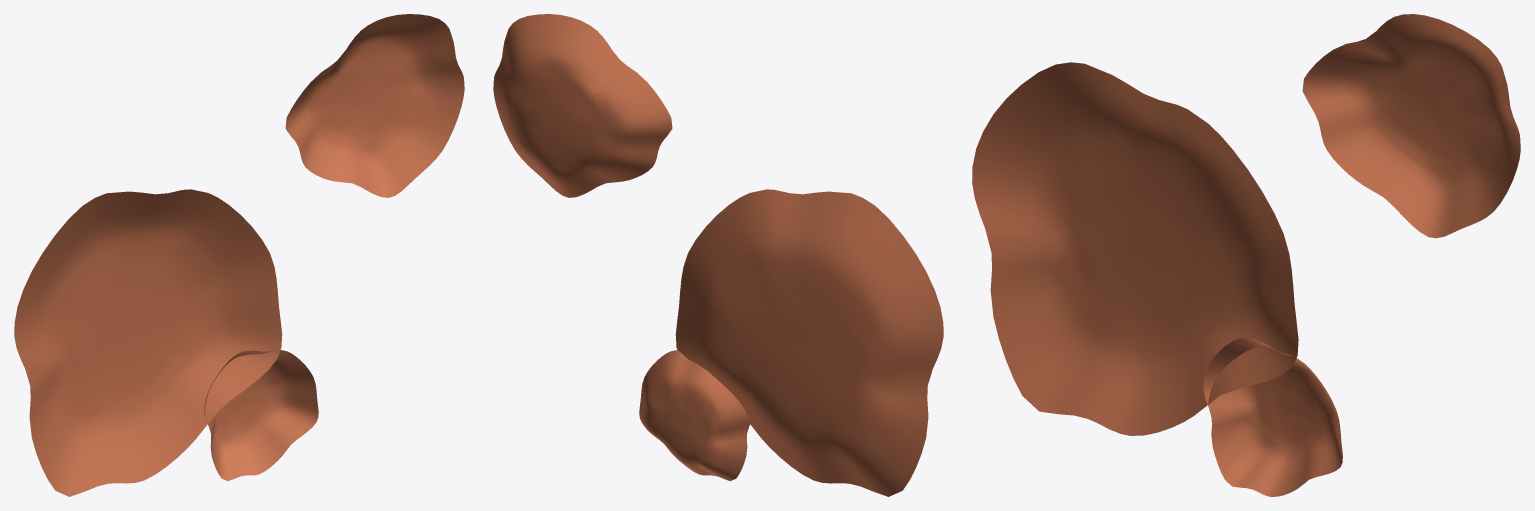
Rendered from Me_Island.fbx.
3 views of the same model, side by side, from view 1: azimuth 30°, elevation 25°; view 2: azimuth 150°, elevation 25°; view 3: azimuth 330°, elevation 25° (orthographic). The views are drawn at different scales.
Visible parts, largest first — view 1: Me_Island; view 2: Me_Island; view 3: Me_Island.
Boxes of the visible parts, bbox=[...] form: Me_Island: bbox=[14, 14, 464, 496]; Me_Island: bbox=[493, 14, 943, 496]; Me_Island: bbox=[972, 14, 1520, 496].
Size of the model in its own units: 6271 by 5670 by 403.
